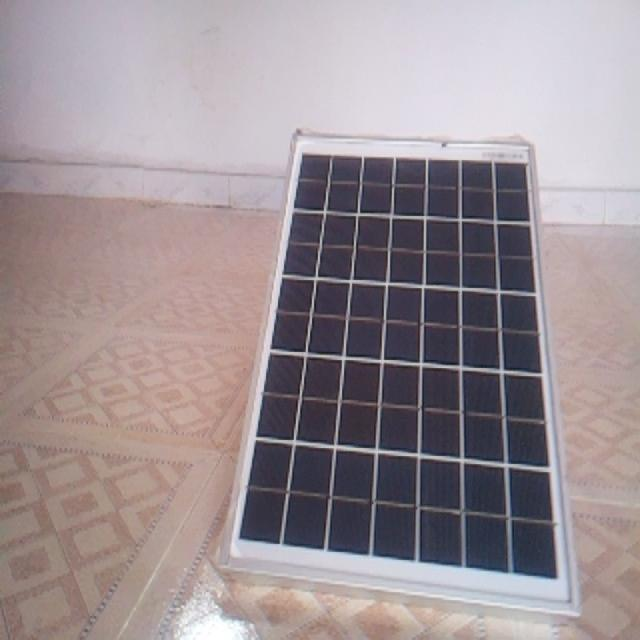Normal Solar Panel: (219, 131, 581, 617)
